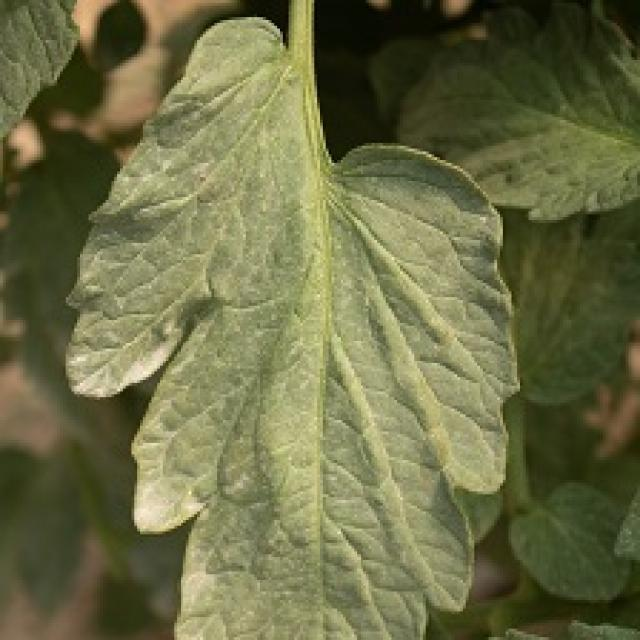Healthy: (69, 0, 514, 637)
